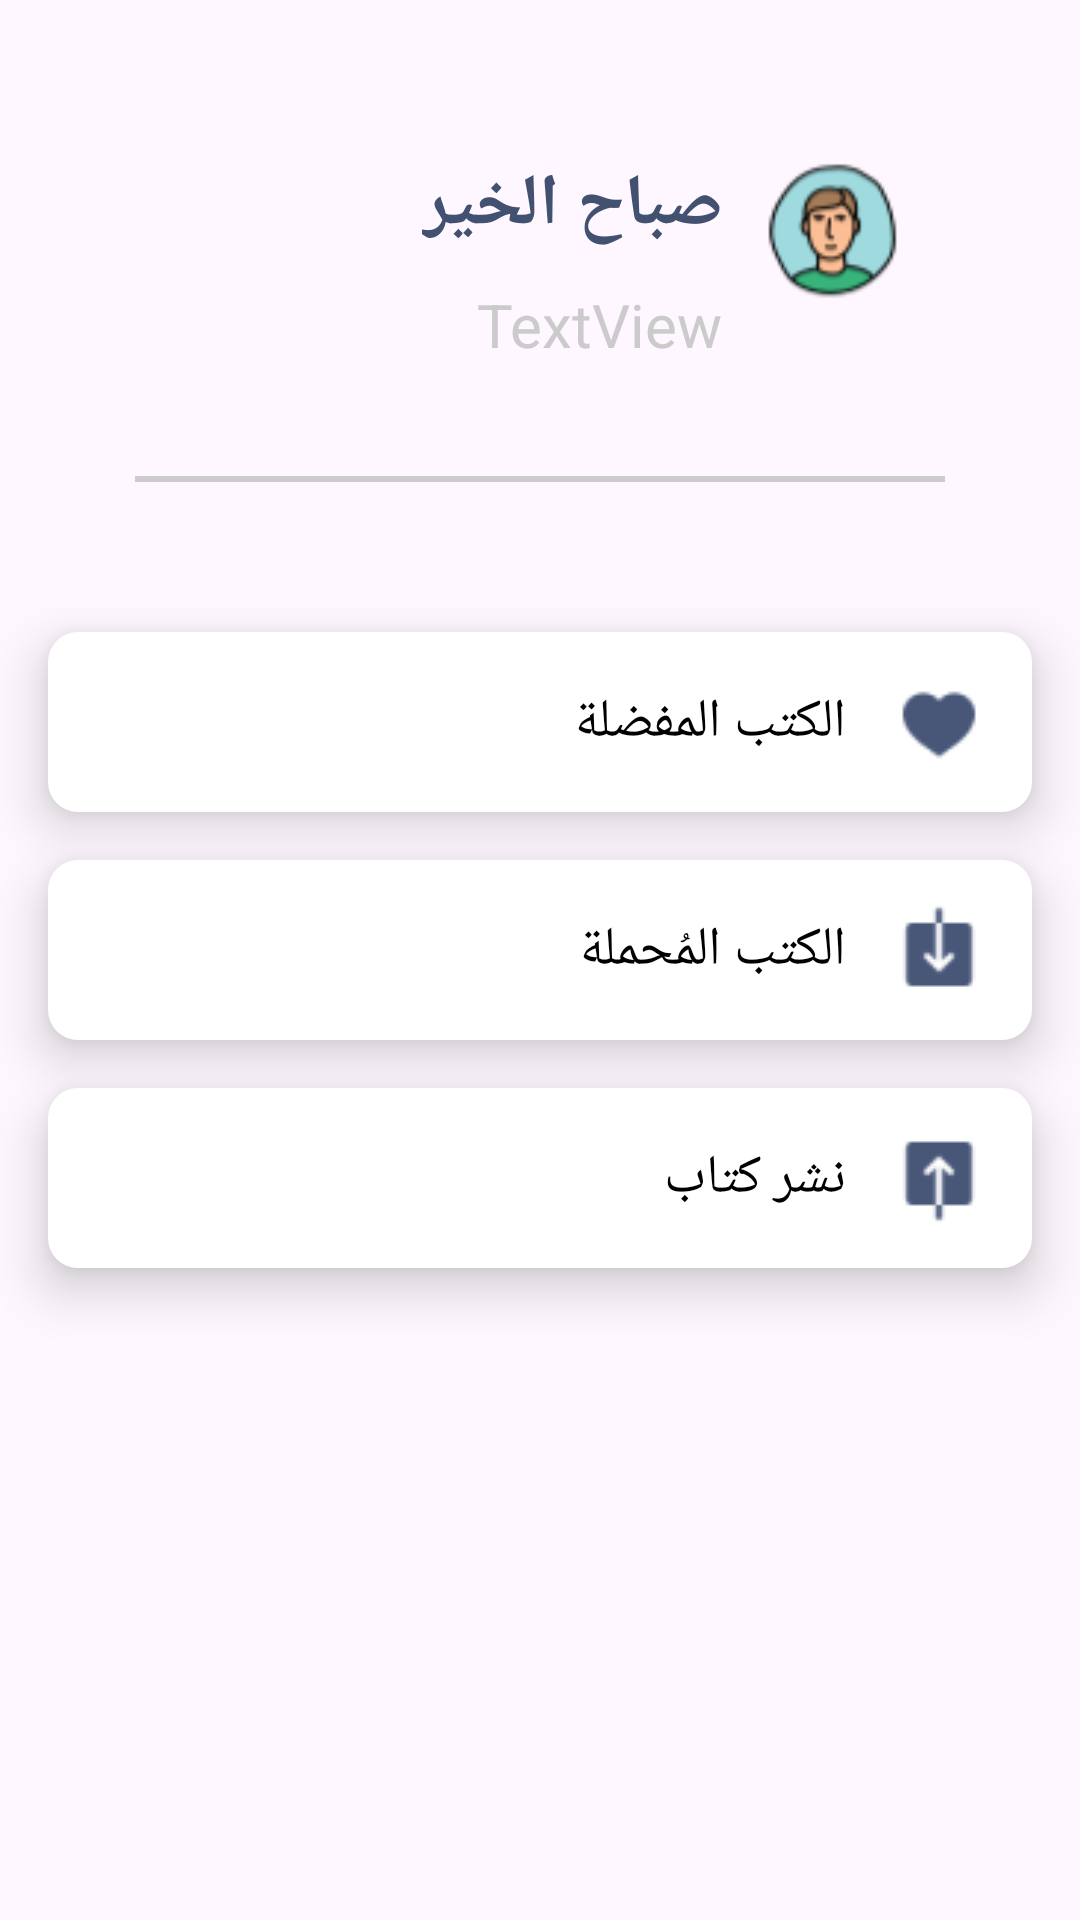

Named icons in this screenshot (1080 x 1920) and their centers, (x=x, y=y):
download: (x=939, y=947)
favorite: (x=939, y=724)
male user: (x=832, y=230)
upload: (x=939, y=1181)
